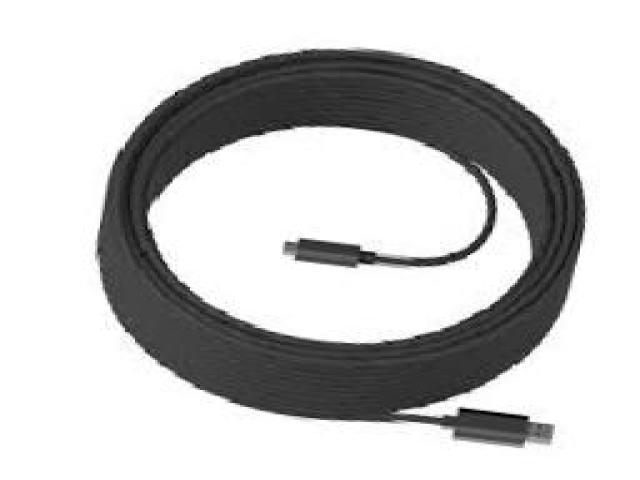wire: (99, 52, 584, 445)
